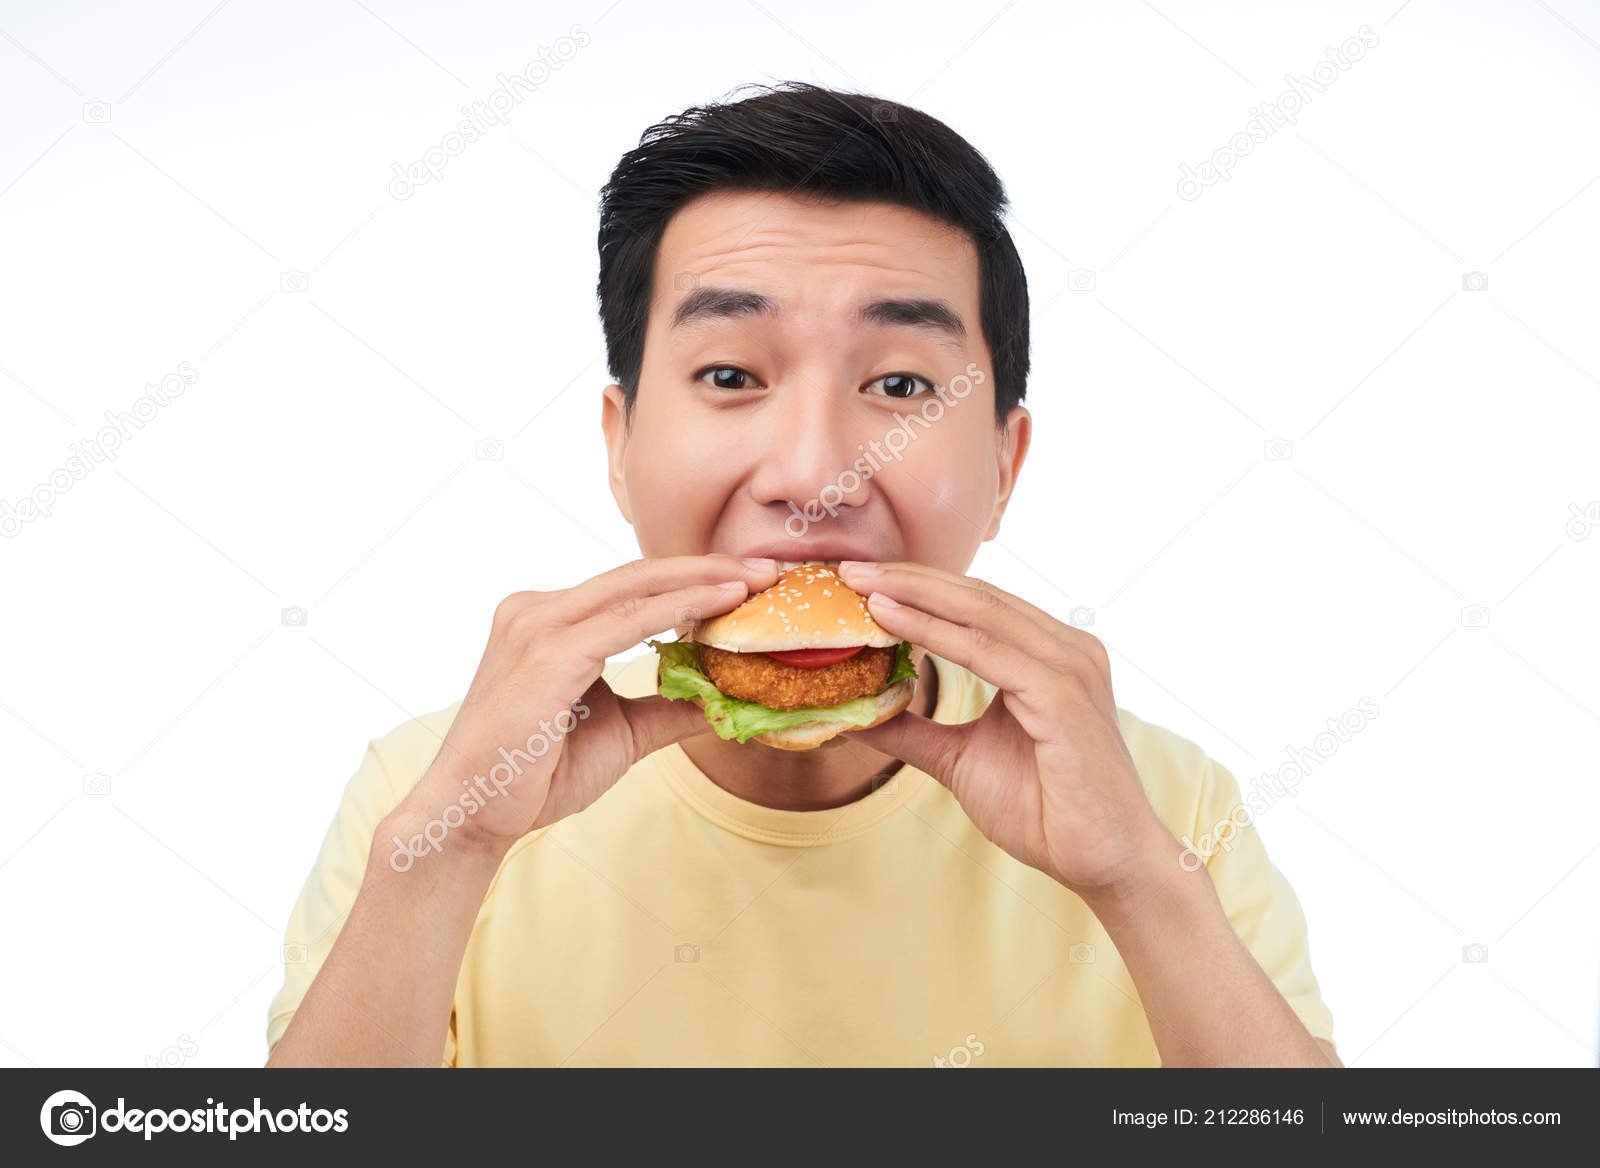eating: (451, 50, 1265, 870)
